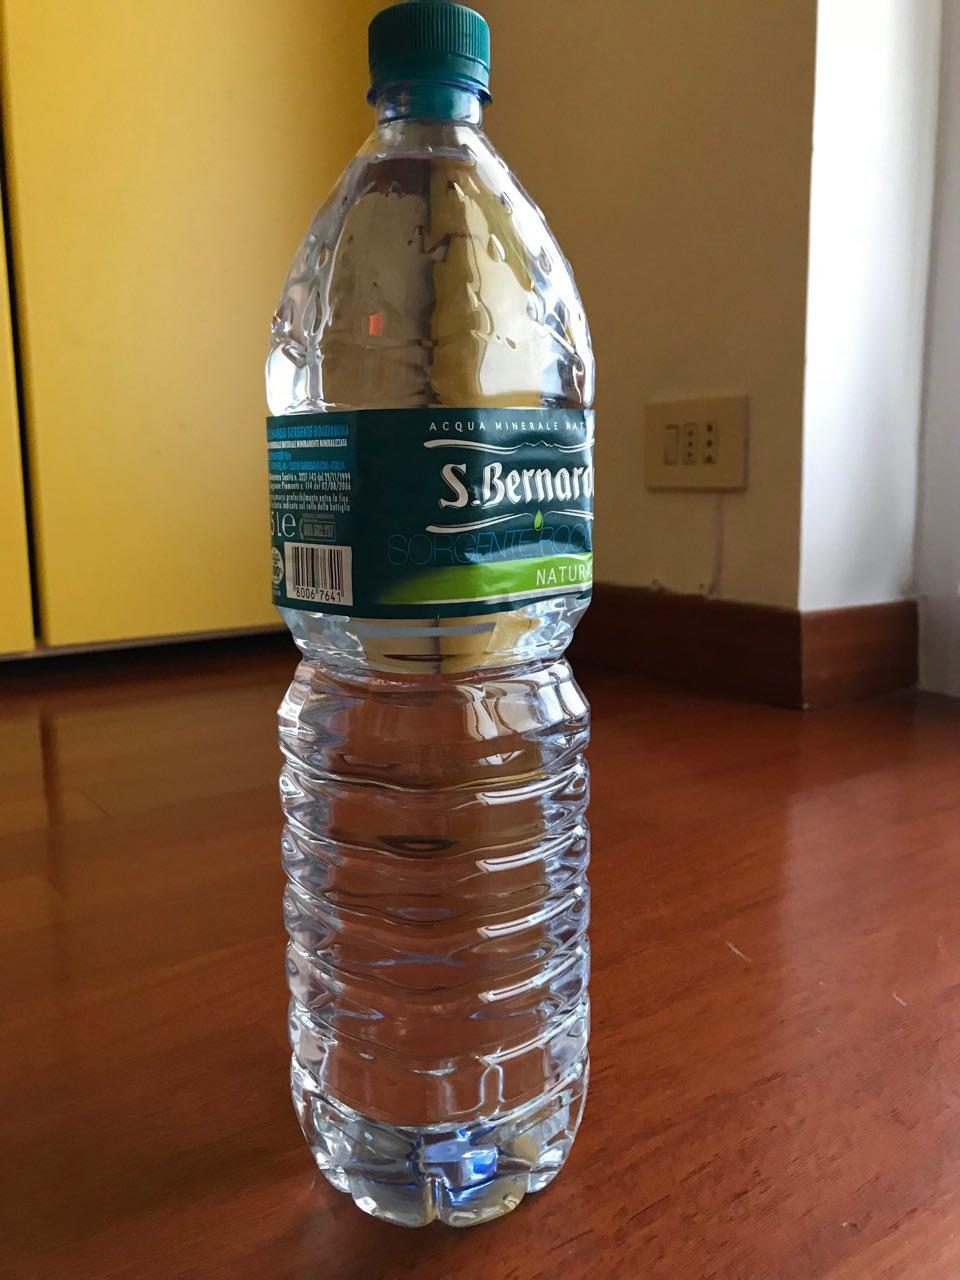san_bernardo: (262, 4, 598, 1231)
